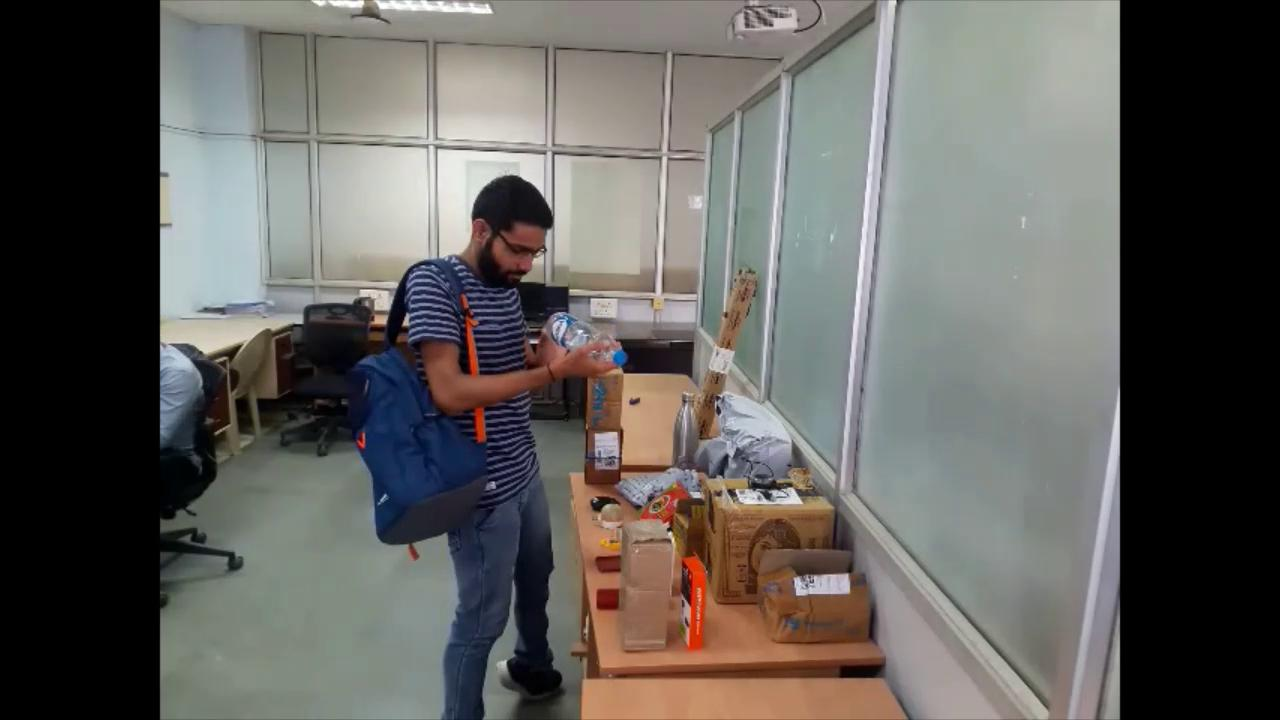Normal: (348, 170, 625, 719)
